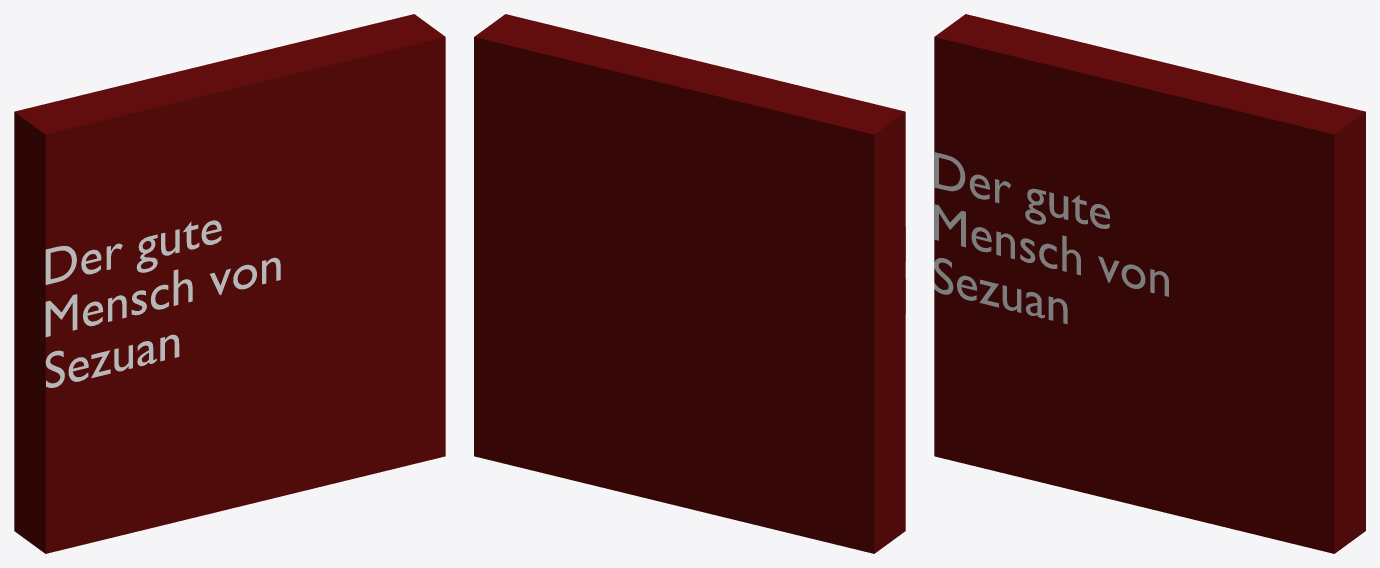
File: tor2.dae
3 renders of one model, left to right at view 1: azimuth 30°, elevation 25°; view 2: azimuth 150°, elevation 25°; view 3: azimuth 330°, elevation 25°, orthographic.
Visible parts, largest first — view 1: SketchUp, Der_gute_Mensch__2 (×2); view 2: SketchUp; view 3: SketchUp, Der_gute_Mensch__2 (×2).
Part boxes in pixels (x1,y1,x2,y2): SketchUp: (14,14,445,553); Der_gute_Mensch__2 (×2): (45,246,77,336); SketchUp: (474,14,905,553); SketchUp: (934,14,1365,553); Der_gute_Mensch__2 (×2): (934,152,965,247).
Size of the model in its own units: 276 by 37.56 by 276.
